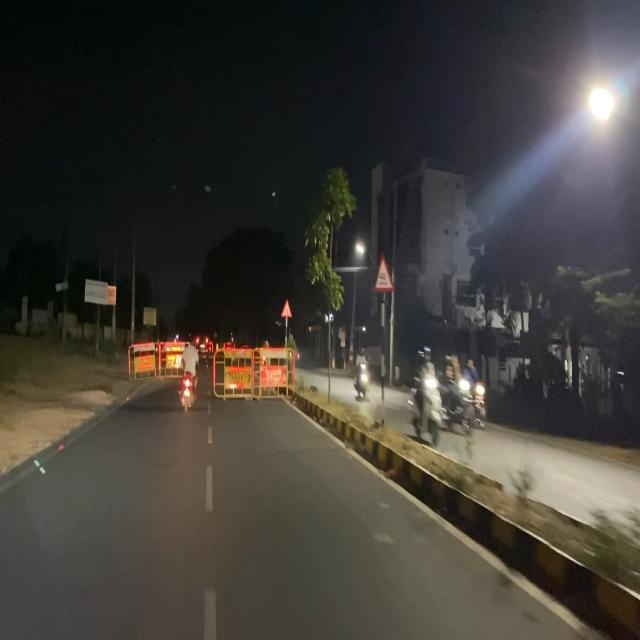bien_nguy_hiem: (374, 254, 394, 293), (280, 298, 292, 318)
